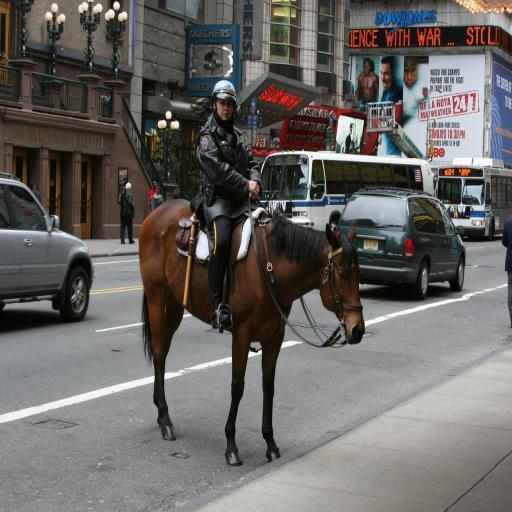horse: (136, 200, 366, 464)
